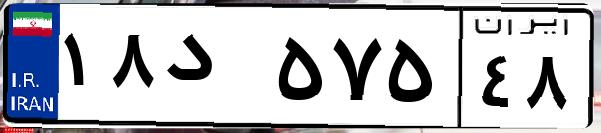1: (57, 26, 110, 100)
4: (475, 38, 525, 113)
5: (270, 28, 330, 110), (385, 28, 445, 110)
7: (330, 28, 385, 110)
8: (525, 38, 570, 115), (110, 28, 158, 98)
د: (158, 20, 270, 120)
